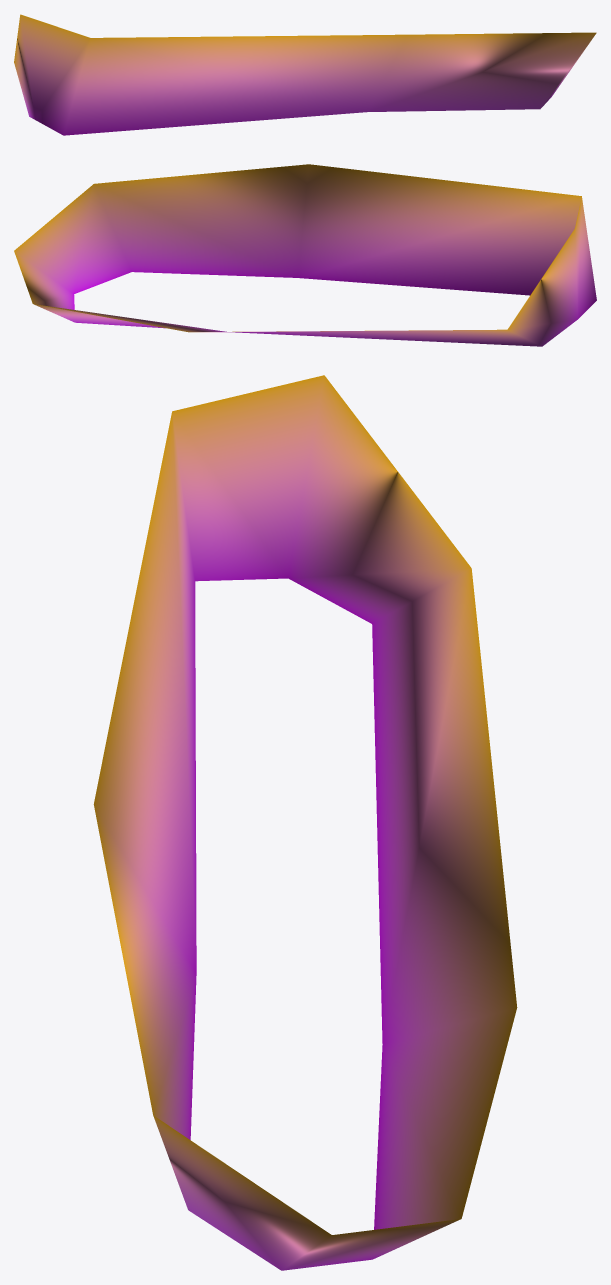
Rendered from pressl.glb.
3 views of the same model, one above another, from view 1: azimuth 30°, elevation 25°; view 2: azimuth 150°, elevation 25°; view 3: azimuth 270°, elevation 25° (orthographic). The views are drawn at different scales.
Visible parts, largest first — view 1: PressR; view 2: PressR; view 3: PressR.
Part boxes in pixels (<box>): PressR: <box>14,14,596,135</box>; PressR: <box>14,164,596,346</box>; PressR: <box>93,375,517,1270</box>.
Size of the model in its own units: 0.6358 by 0.222 by 0.2086.
